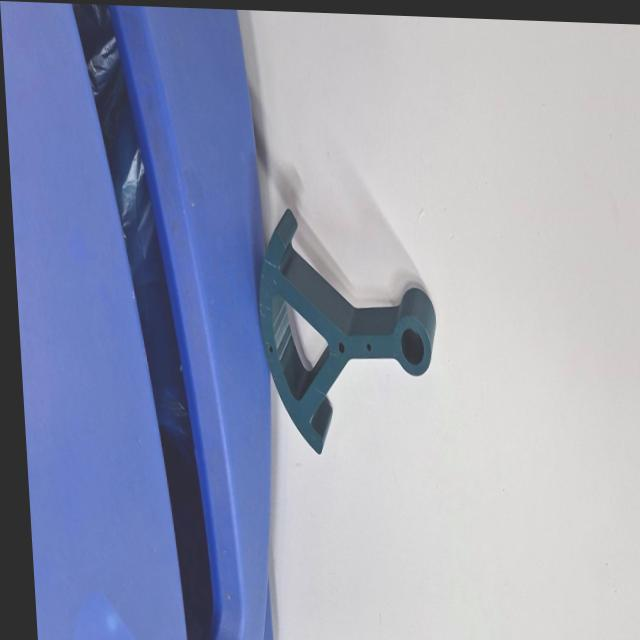haptic: (252, 203, 446, 462)
